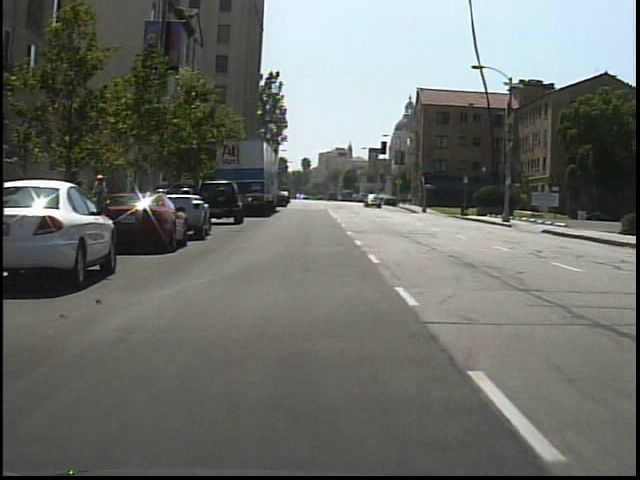person: (65, 166, 91, 230), (91, 171, 115, 225)
